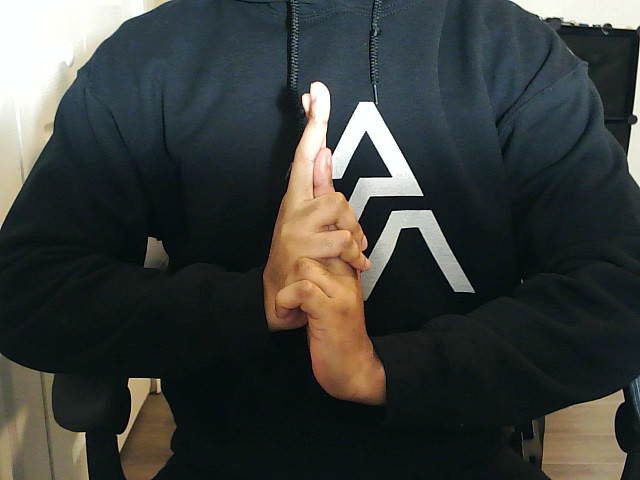Ram: (266, 80, 387, 405)
